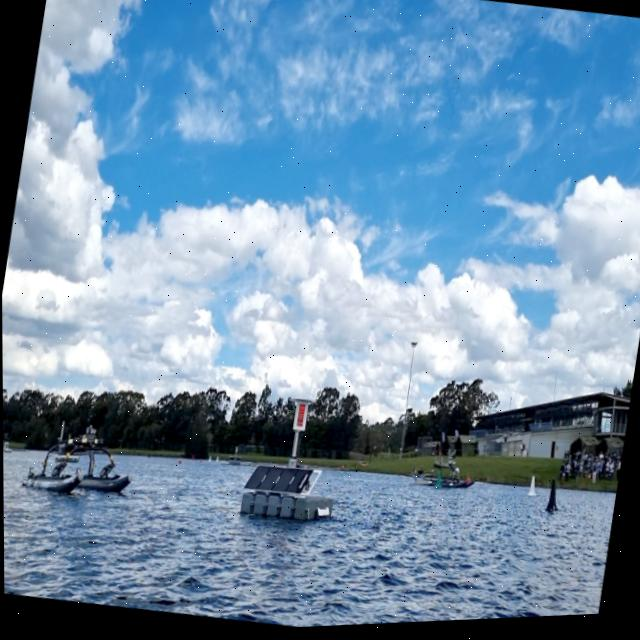led: (293, 404, 308, 432)
